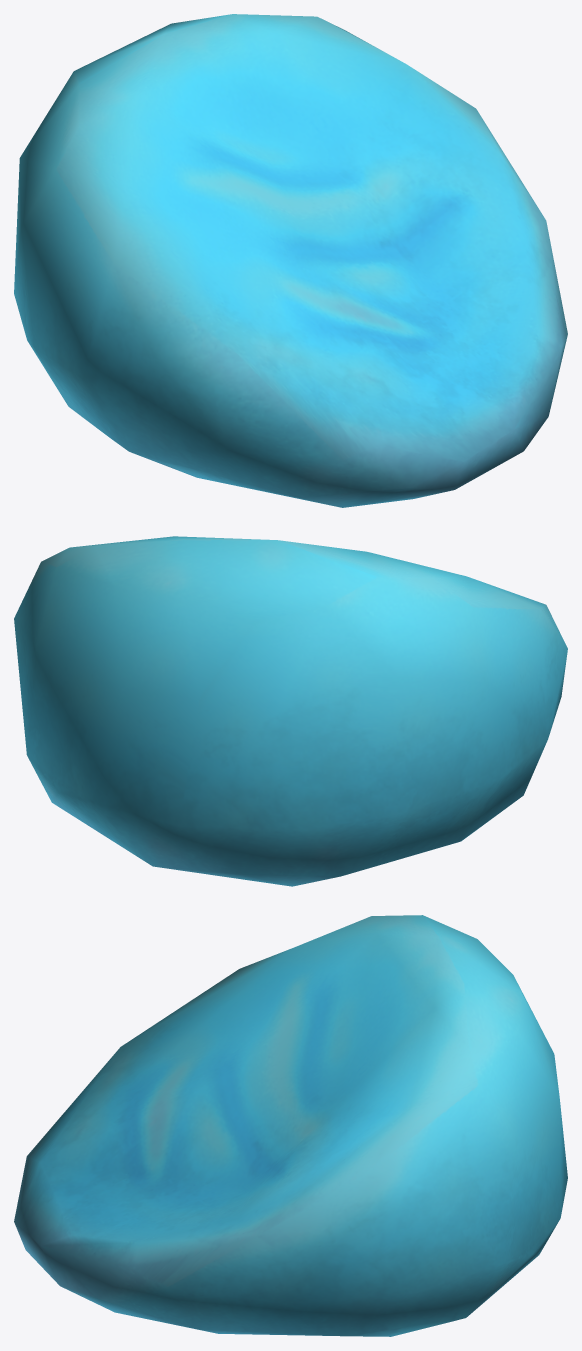
File: SM_ChillBag_cyan.glb
3 renders of one model, top to bottom at view 1: azimuth 30°, elevation 25°; view 2: azimuth 150°, elevation 25°; view 3: azimuth 270°, elevation 25°, orthographic. The views are drawn at different scales.
Parts seen in each view (by area): view 1: SM_ChillBag_cyan; view 2: SM_ChillBag_cyan; view 3: SM_ChillBag_cyan.
Boxes of the visible parts, left/top/right/bottom form: SM_ChillBag_cyan: left=14, top=14, right=567, bottom=507; SM_ChillBag_cyan: left=14, top=536, right=567, bottom=886; SM_ChillBag_cyan: left=14, top=915, right=567, bottom=1336.
Bounding box in the file's own units: 1.07 × 0.7346 × 1.17.
Materials: 1 (1 with a texture image).
